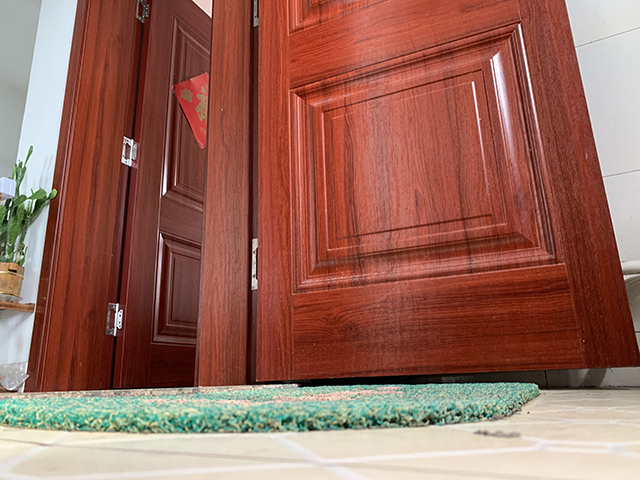carpet: (1, 379, 544, 434)
